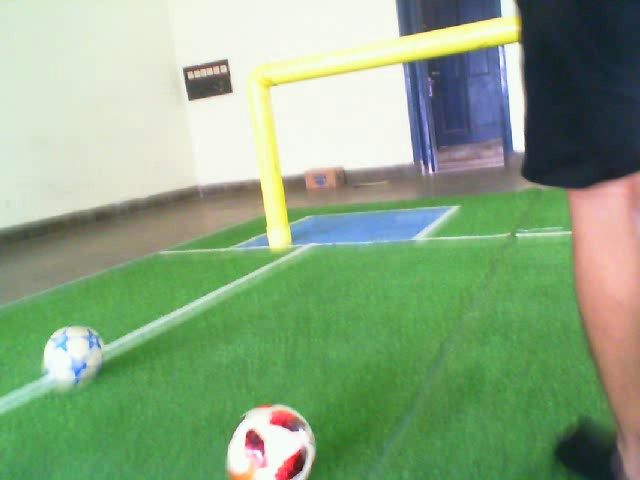ball: (224, 402, 318, 480), (42, 325, 106, 392)
